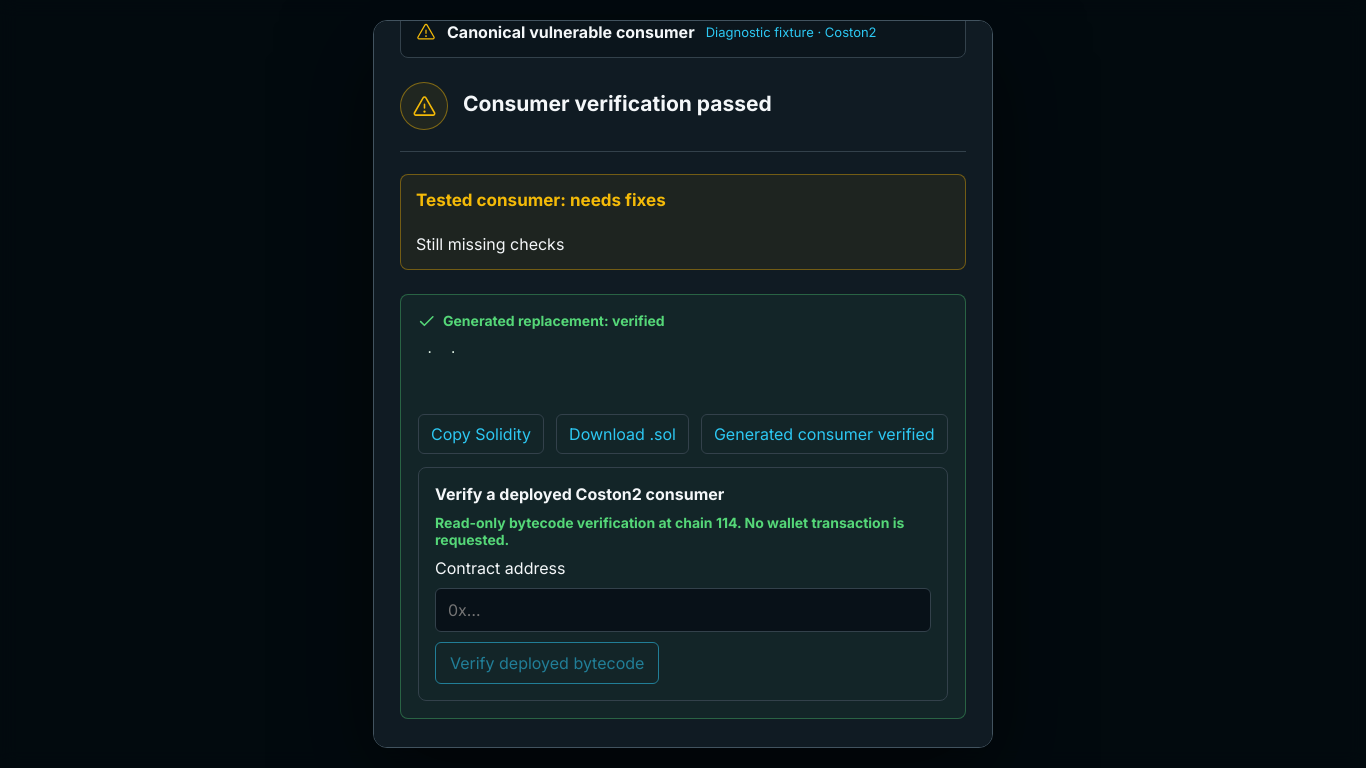
it: Slice 019 Consumer Lab surface › renders the honest mismatched deployed-bytecode result without a wallet effect
(page scrolled)
Expected: the text "Read-only bytecode verification at chain 114" is shown, [435,514,904,548]
Expected: the button "Verify deployed bytecode" is disabled, [435,642,659,684]
Type "0x1111111111111111111111111111111111111111" into the field labelled "Contract address" at (683, 610), box [435,588,931,632]
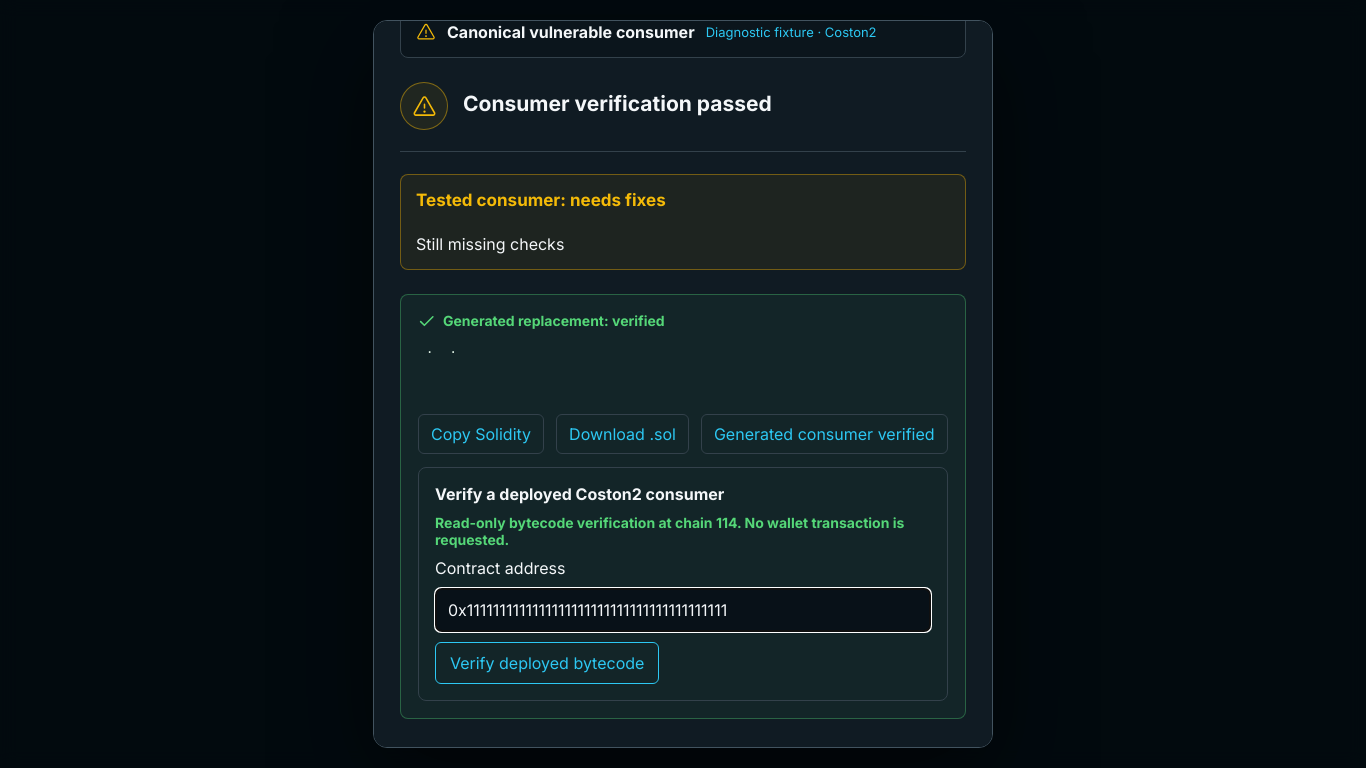
Click the button "Verify deployed bytecode" at (547, 662), box [435,642,659,684]
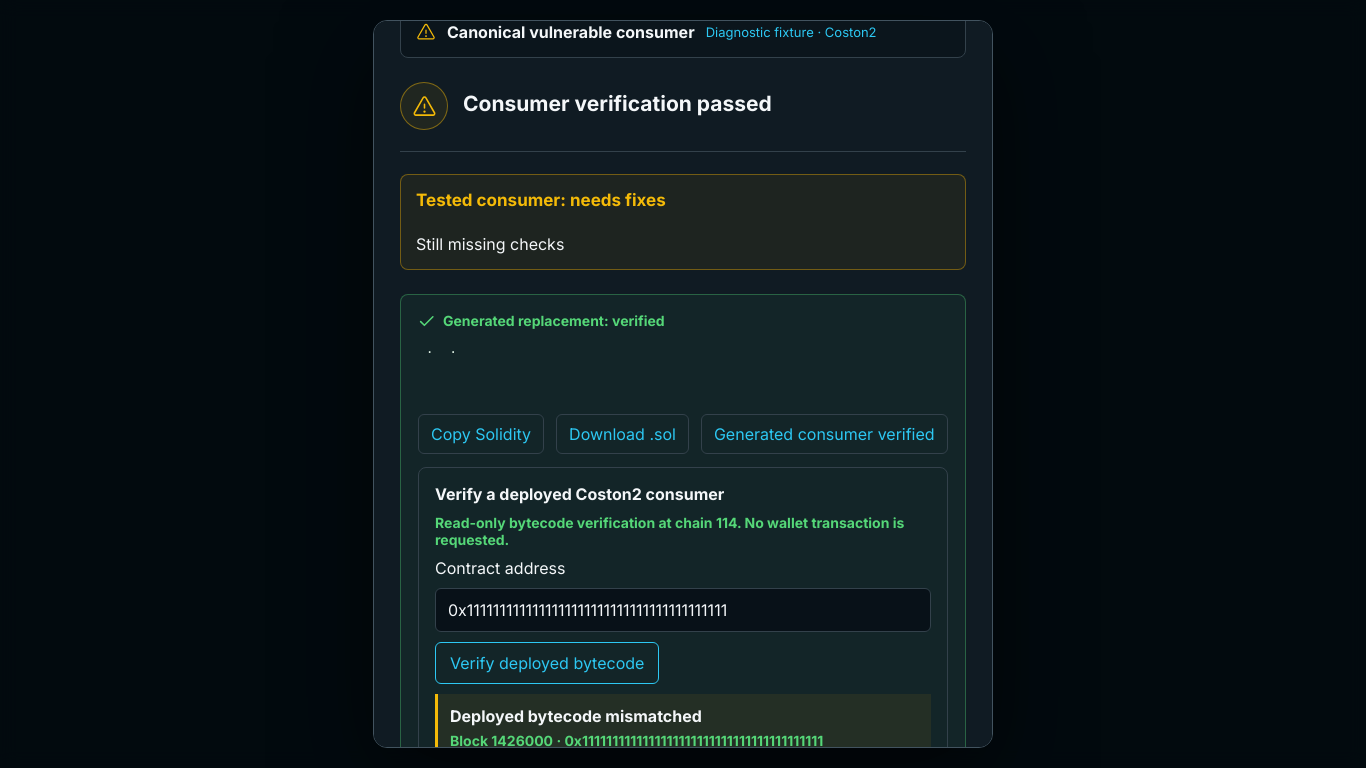
Now the text "Deployed bytecode mismatched" is shown, box [450,706,702,726]
